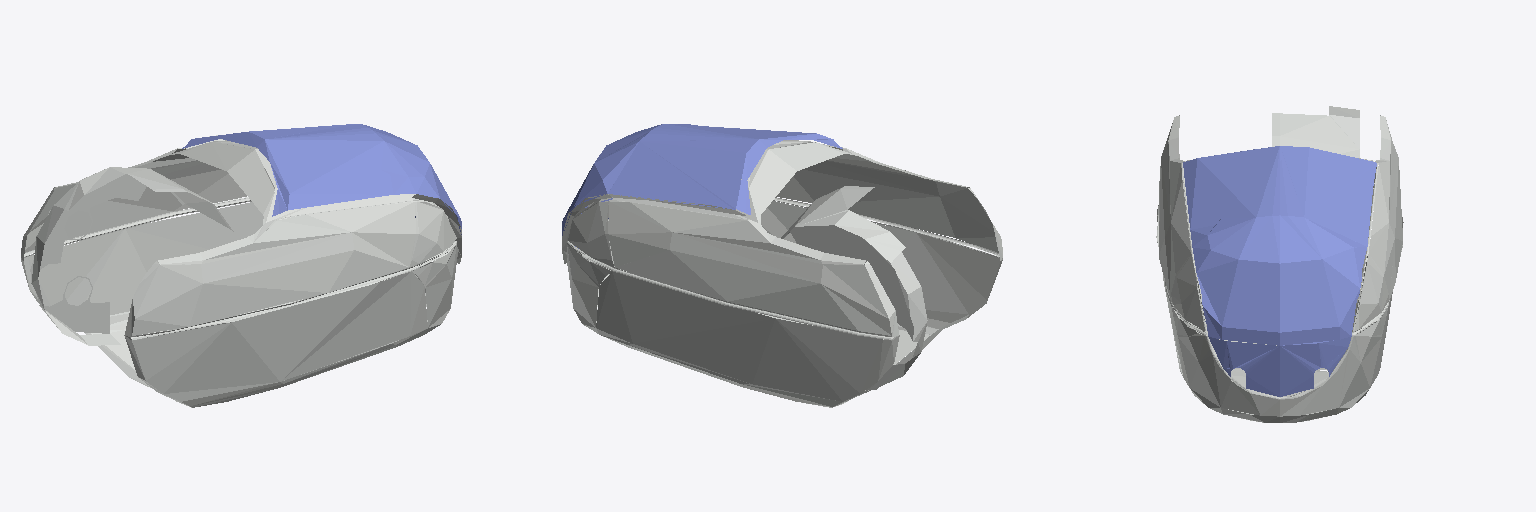
File: fingerPhaDist.obj
The picture shows the model from 3 angles: view 1: azimuth 30°, elevation 25°; view 2: azimuth 150°, elevation 25°; view 3: azimuth 270°, elevation 25°; orthographic projection.
Visible parts, largest first — view 1: unnamed_object1; view 2: unnamed_object1; view 3: unnamed_object1.
Boxes of the visible parts, box(x1,y1,x2,y2) form: unnamed_object1: box(21, 124, 461, 407); unnamed_object1: box(562, 124, 1002, 407); unnamed_object1: box(1156, 106, 1403, 422).
Bounding box in the file's own units: 0.0503 × 0.0292 × 0.0285.